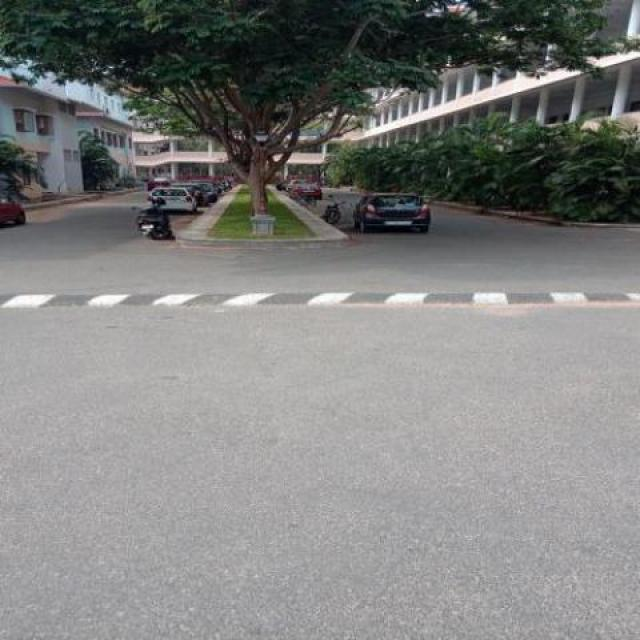Speed Bump: (0, 290, 639, 309)
